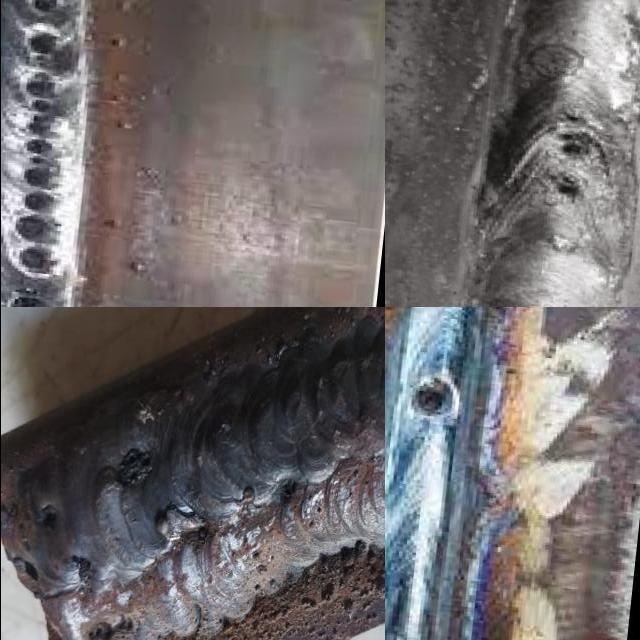defect: (10, 65, 64, 283), (544, 105, 613, 162), (399, 371, 464, 423), (536, 169, 596, 206), (114, 446, 157, 496), (18, 23, 74, 60), (35, 497, 65, 543), (70, 552, 97, 593), (22, 0, 67, 17), (282, 479, 297, 502)
